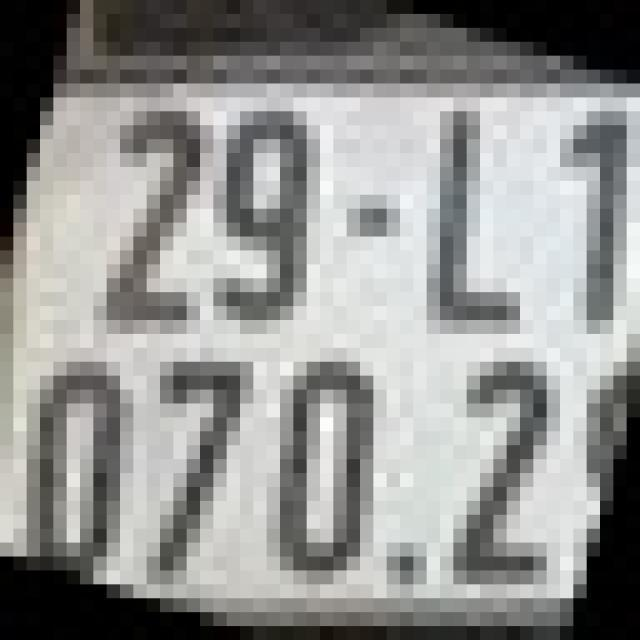0: (266, 348, 374, 570), (27, 362, 134, 556)
1: (560, 111, 640, 320)
2: (93, 97, 200, 334), (453, 362, 547, 584)
7: (146, 348, 254, 570)
9: (213, 97, 320, 320)
L: (426, 97, 534, 320)
